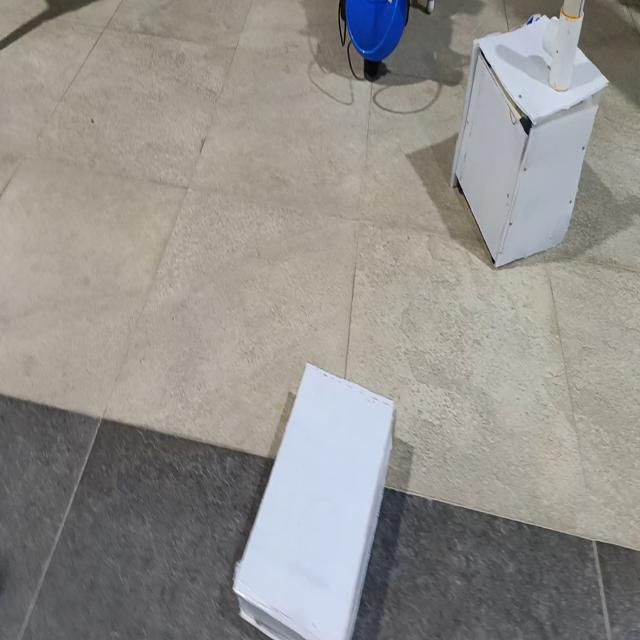Cube: (450, 12, 610, 268)
Cuboid: (231, 359, 395, 638)
